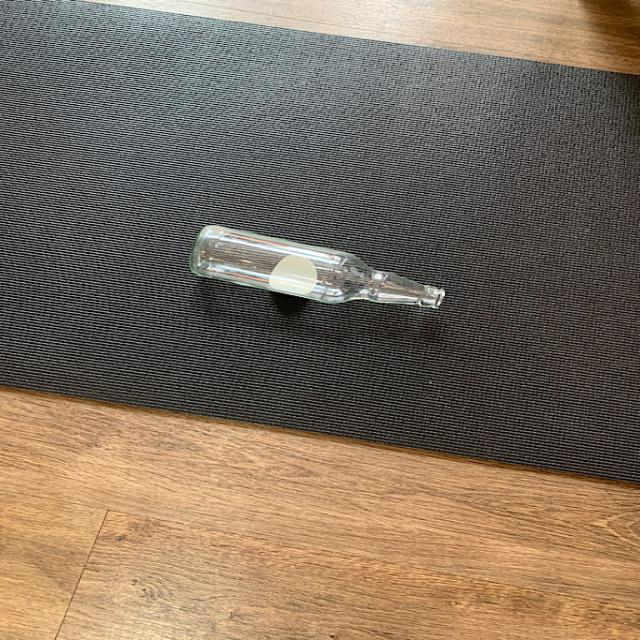litter: (194, 224, 458, 310)
